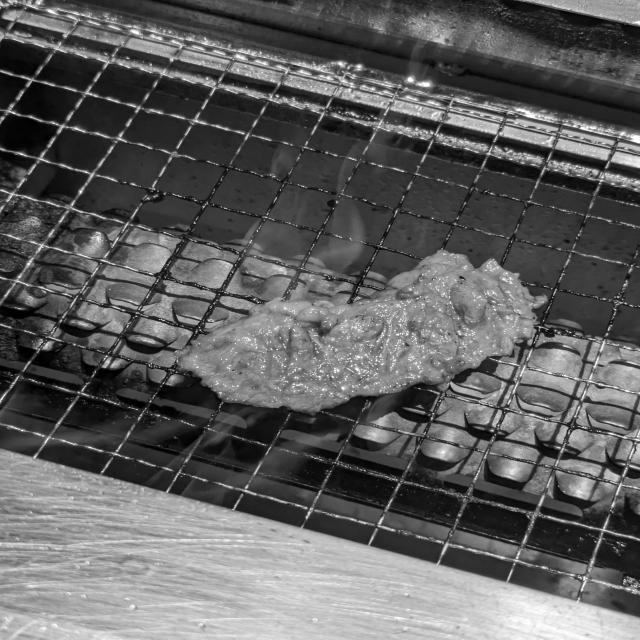OK undercooked beef,: (160, 238, 568, 427)
